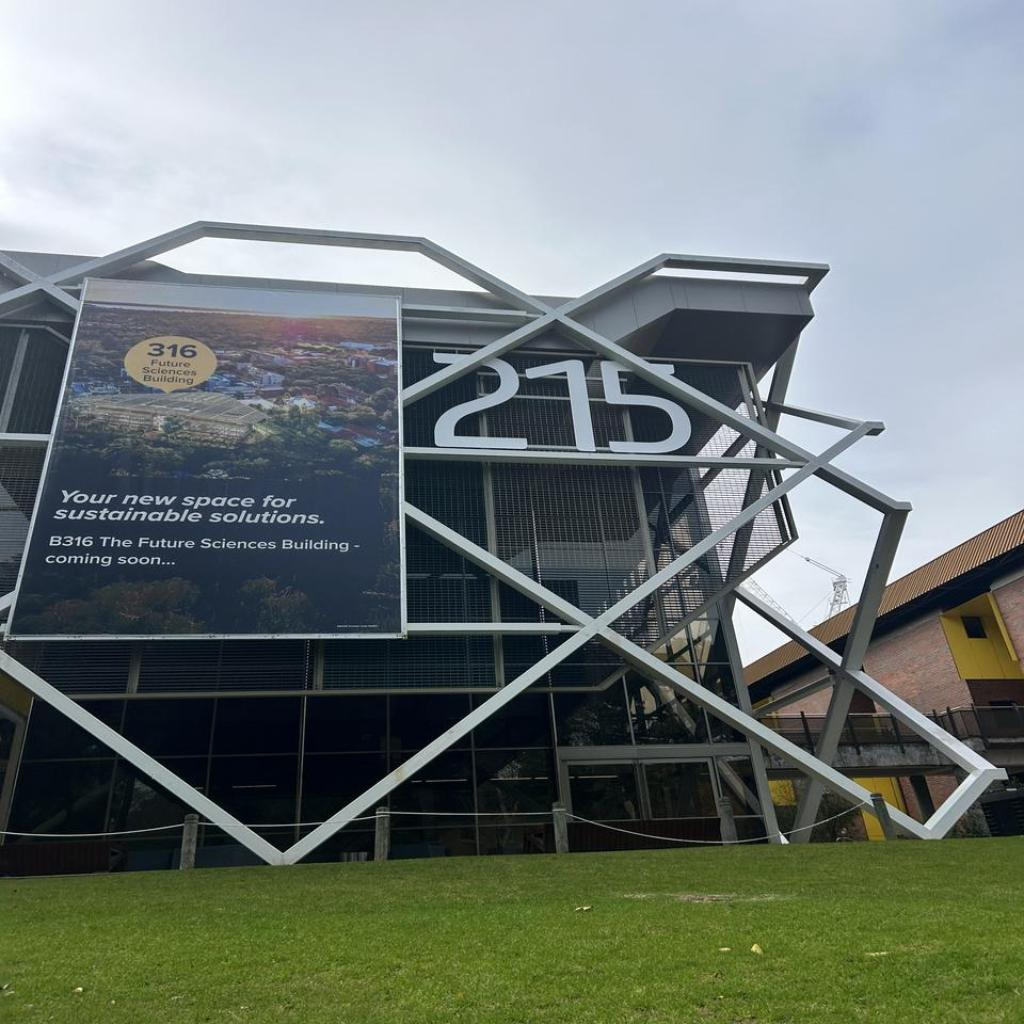BuildingCodes: (429, 351, 695, 455)
